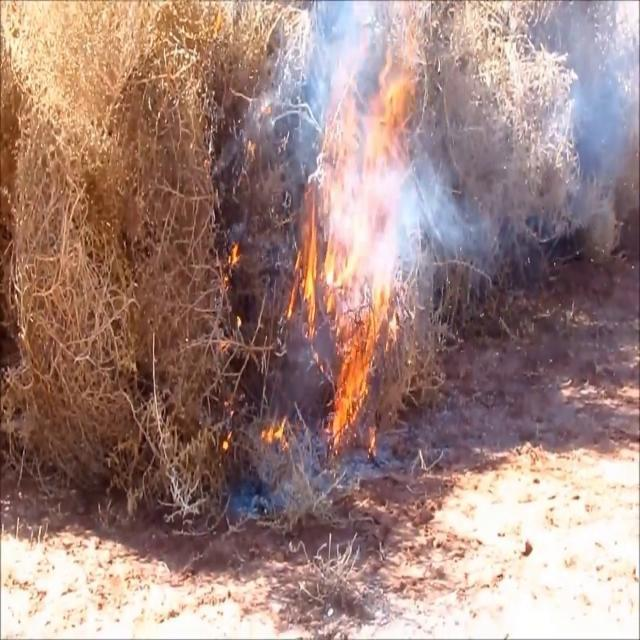Fire: (289, 188, 399, 449)
Smoke: (273, 0, 450, 240), (544, 0, 640, 217)
